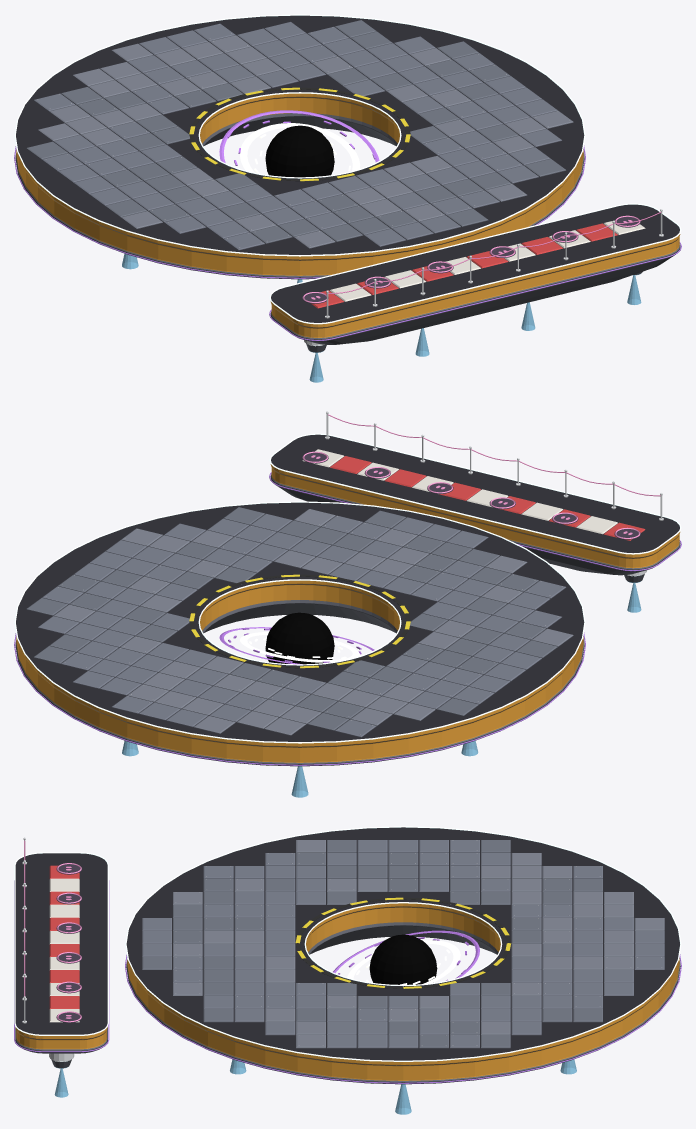
Rendered from Level_RingStation.fbx.
The picture shows the model from 3 angles, top to bottom: view 1: azimuth 30°, elevation 25°; view 2: azimuth 150°, elevation 25°; view 3: azimuth 270°, elevation 25°; orthographic projection. The views are drawn at different scales.
Parts seen in each view (by area): view 1: Ring_Tiles, Ring_Slab, Customers_RingStation_Slab, Ring_BlackHole, Customers_RingStation_CheckerFloor, Ring_NeonRim, Customers_RingStation_QueueSpotsPosts, Customers_RingStation_NeonRim, Customers_RingStation_Engines, Ring_NeonHole, Ring_NeonRimLow, Customers_RingStation_NeonRimLow; view 2: Ring_Tiles, Ring_Slab, Customers_RingStation_Slab, Ring_BlackHole, Customers_RingStation_CheckerFloor, Ring_NeonRim, Customers_RingStation_QueueSpotsPosts, Customers_RingStation_NeonRim, Ring_NeonRimLow, Ring_NeonHole, Ring_Engines; view 3: Ring_Tiles, Ring_Slab, Customers_RingStation_Slab, Ring_BlackHole, Customers_RingStation_CheckerFloor, Ring_NeonRim, Customers_RingStation_QueueSpotsPosts, Ring_NeonRimLow, Customers_RingStation_NeonRim, Ring_NeonHole, Ring_Engines, Customers_RingStation_Engines (+1 smaller).
Part boxes in pixels (x1,y1,x2,y2): Ring_Tiles: [26, 20, 573, 250]; Ring_Slab: [15, 15, 584, 279]; Customers_RingStation_Slab: [270, 204, 680, 344]; Ring_BlackHole: [189, 87, 410, 181]; Customers_RingStation_CheckerFloor: [311, 220, 645, 308]; Ring_NeonRim: [14, 14, 585, 256]; Customers_RingStation_QueueSpotsPosts: [302, 209, 663, 318]; Customers_RingStation_NeonRim: [269, 203, 681, 324]; Customers_RingStation_Engines: [304, 271, 642, 382]; Ring_NeonHole: [198, 92, 401, 178]; Ring_NeonRimLow: [14, 145, 585, 278]; Customers_RingStation_NeonRimLow: [269, 242, 681, 340]; Ring_Tiles: [26, 507, 573, 737]; Ring_Slab: [15, 502, 584, 766]; Customers_RingStation_Slab: [270, 434, 680, 575]; Ring_BlackHole: [189, 574, 410, 668]; Customers_RingStation_CheckerFloor: [302, 449, 645, 540]; Ring_NeonRim: [14, 501, 585, 743]; Customers_RingStation_QueueSpotsPosts: [302, 411, 663, 539]; Customers_RingStation_NeonRim: [269, 433, 681, 554]; Ring_NeonRimLow: [14, 632, 585, 765]; Ring_NeonHole: [198, 579, 401, 665]; Ring_Engines: [122, 740, 478, 797]; Ring_Tiles: [142, 840, 664, 1048]; Ring_Slab: [126, 827, 680, 1084]; Customers_RingStation_Slab: [15, 853, 107, 1053]; Ring_BlackHole: [295, 897, 511, 988]; Customers_RingStation_CheckerFloor: [49, 865, 79, 1022]; Ring_NeonRim: [125, 826, 681, 1061]; Customers_RingStation_QueueSpotsPosts: [22, 837, 82, 1023]; Ring_NeonRimLow: [125, 954, 681, 1083]; Customers_RingStation_NeonRim: [14, 852, 108, 1035]; Ring_NeonHole: [304, 902, 502, 986]; Ring_Engines: [230, 1059, 576, 1114]; Customers_RingStation_Engines: [49, 1053, 74, 1097].
Size of the model in its own units: 18.1 by 4.08 by 21.7.
